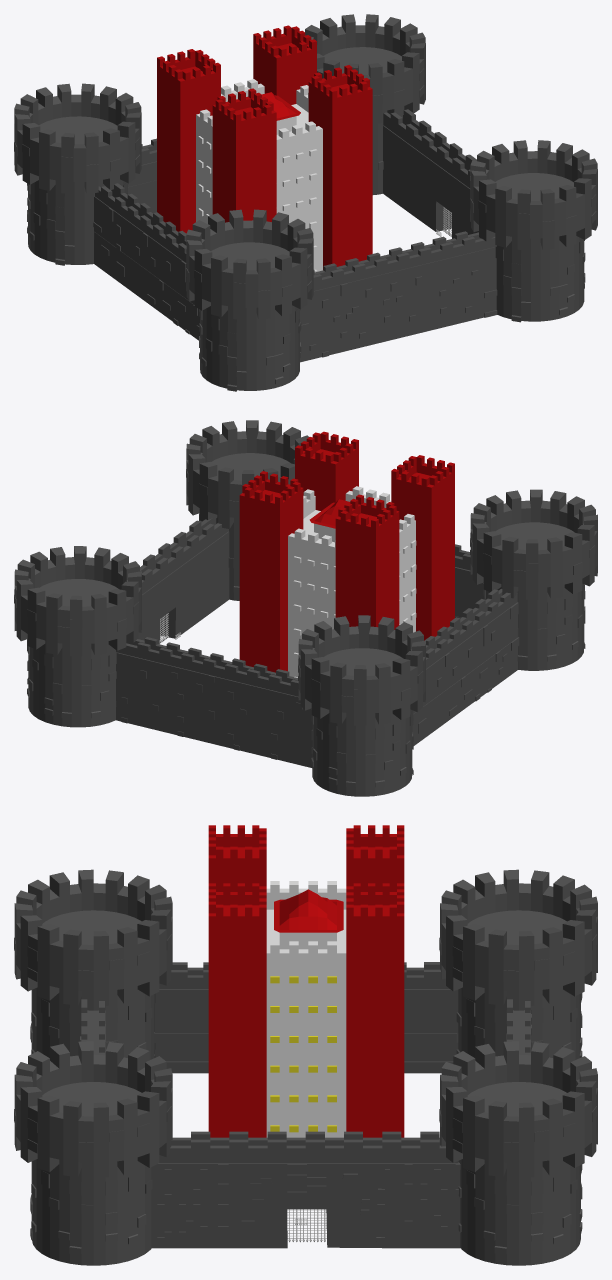
File: 성채및외곽 red (1).fbx
The picture shows the model from 3 angles, top to bottom: view 1: azimuth 30°, elevation 25°; view 2: azimuth 150°, elevation 25°; view 3: azimuth 270°, elevation 25°; orthographic projection. The views are drawn at different scales.
Visible parts, largest first — view 1: 실린더.002, 실린더, 실린더.001, 큐브.002, 실린더.003, 큐브, 큐브.001, 큐브.005, 큐브.003, 큐브.004, 평면, 평면.002 (+1 smaller); view 2: 실린더, 실린더.003, 실린더.001, 큐브.004, 실린더.002, 큐브, 큐브.005, 큐브.003, 큐브.001, 큐브.002, 평면.001, 평면.002 (+1 smaller); view 3: 큐브, 실린더, 실린더.002, 실린더.003, 실린더.001, 큐브.005, 큐브.002, 큐브.004, 큐브.003, 큐브.001, 큐브.006, 평면.002 (+3 smaller).
Boxes of the visible parts, left/top/right/bottom form: 실린더.002: left=300, top=140, right=597, bottom=362; 실린더: left=14, top=83, right=199, bottom=340; 실린더.001: left=186, top=209, right=313, bottom=391; 큐브.002: left=308, top=65, right=372, bottom=269; 실린더.003: left=305, top=14, right=425, bottom=194; 큐브: left=383, top=109, right=478, bottom=238; 큐브.001: left=157, top=49, right=220, bottom=233; 큐브.005: left=196, top=79, right=322, bottom=272; 큐브.003: left=212, top=88, right=276, bottom=222; 큐브.004: left=253, top=25, right=316, bottom=104; 평면: left=313, top=231, right=496, bottom=290; 평면.002: left=95, top=183, right=186, bottom=262; 실린더: left=116, top=602, right=519, bottom=796; 실린더.003: left=14, top=546, right=141, bottom=727; 실린더.001: left=470, top=489, right=597, bottom=670; 큐브.004: left=239, top=471, right=303, bottom=672; 실린더.002: left=186, top=420, right=484, bottom=618; 큐브: left=138, top=518, right=229, bottom=644; 큐브.005: left=288, top=486, right=416, bottom=677; 큐브.003: left=391, top=455, right=454, bottom=640; 큐브.001: left=335, top=494, right=399, bottom=629; 큐브.002: left=295, top=431, right=358, bottom=510; 평면.001: left=116, top=637, right=298, bottom=696; 평면.002: left=425, top=589, right=517, bottom=668; 큐브: left=152, top=1131, right=460, bottom=1248; 실린더: left=154, top=869, right=597, bottom=1073; 실린더.002: left=14, top=1010, right=172, bottom=1265; 실린더.003: left=439, top=1041, right=597, bottom=1265; 실린더.001: left=14, top=869, right=172, bottom=1059; 큐브.005: left=266, top=881, right=346, bottom=1137; 큐브.002: left=208, top=883, right=266, bottom=1137; 큐브.004: left=346, top=883, right=404, bottom=1137; 큐브.003: left=208, top=825, right=266, bottom=891; 큐브.001: left=346, top=825, right=404, bottom=891; 큐브.006: left=274, top=889, right=343, bottom=932; 평면.002: left=159, top=962, right=449, bottom=988.
Bounding box in the file's own units: 1508 × 776 × 1558.
